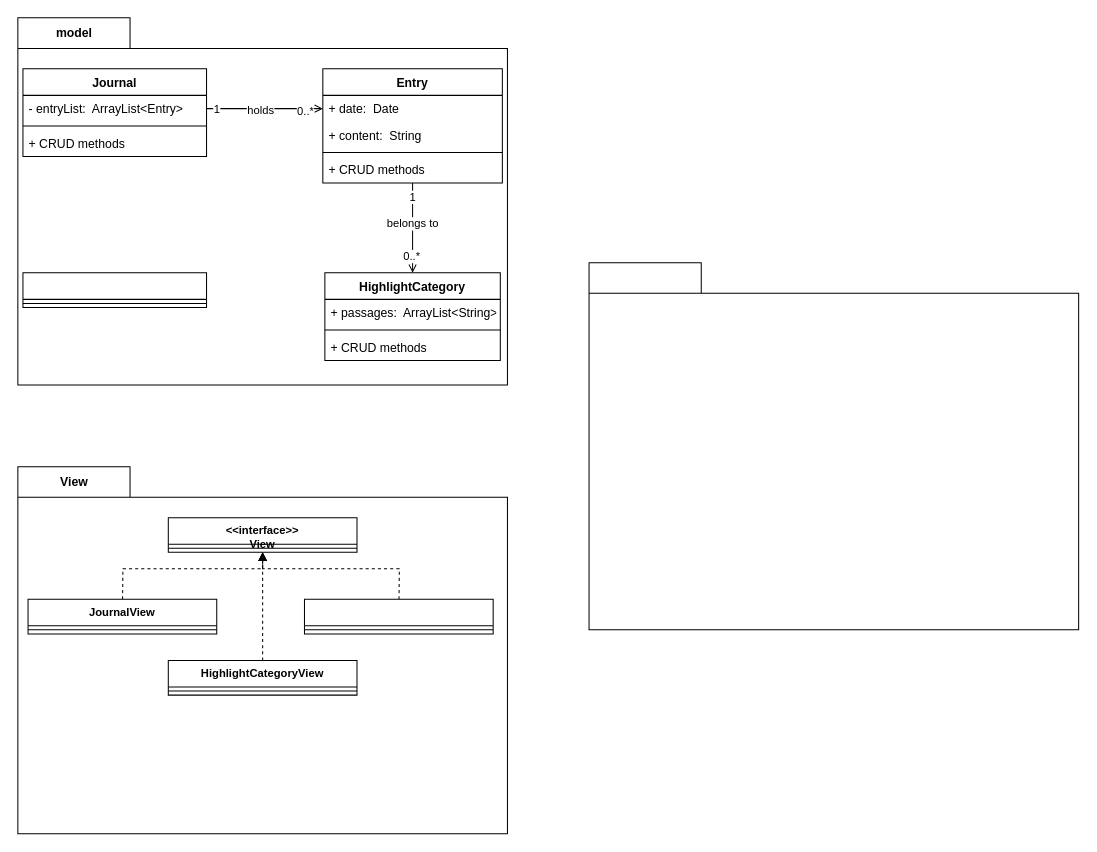
Some shapes in this 1097 by 852 pixel diagram are drawn without their labels. The shapes that lost their labels are listed below. From the top down, each one's centre as x and y in pixels, then its label:
the point at 114,290: Database
the point at 833,446: Controller
the point at 398,616: EntryView
